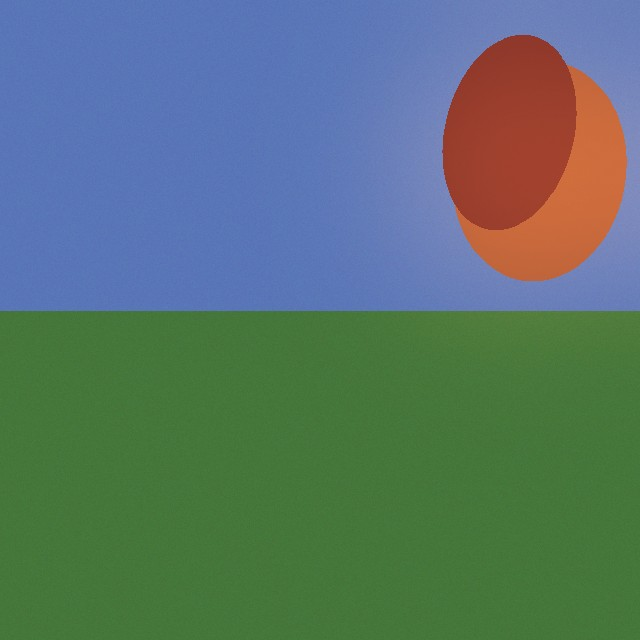fire: (435, 110, 609, 226)
